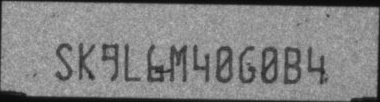0: (215, 45, 234, 83), (260, 45, 278, 83)
4: (305, 46, 324, 85), (192, 44, 210, 82)
6: (147, 44, 165, 83)
9: (101, 43, 118, 82)
B: (283, 45, 303, 85)
G: (238, 44, 256, 83)
K: (77, 41, 96, 81)
L: (124, 42, 142, 83)
M: (170, 43, 188, 83)
S: (55, 42, 74, 81)
